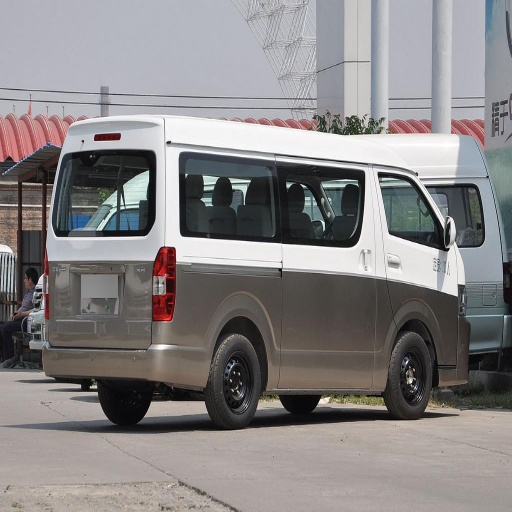back_bumper: (41, 317, 163, 379)
back_right_door: (365, 168, 413, 239)
trunk: (44, 237, 406, 387)
